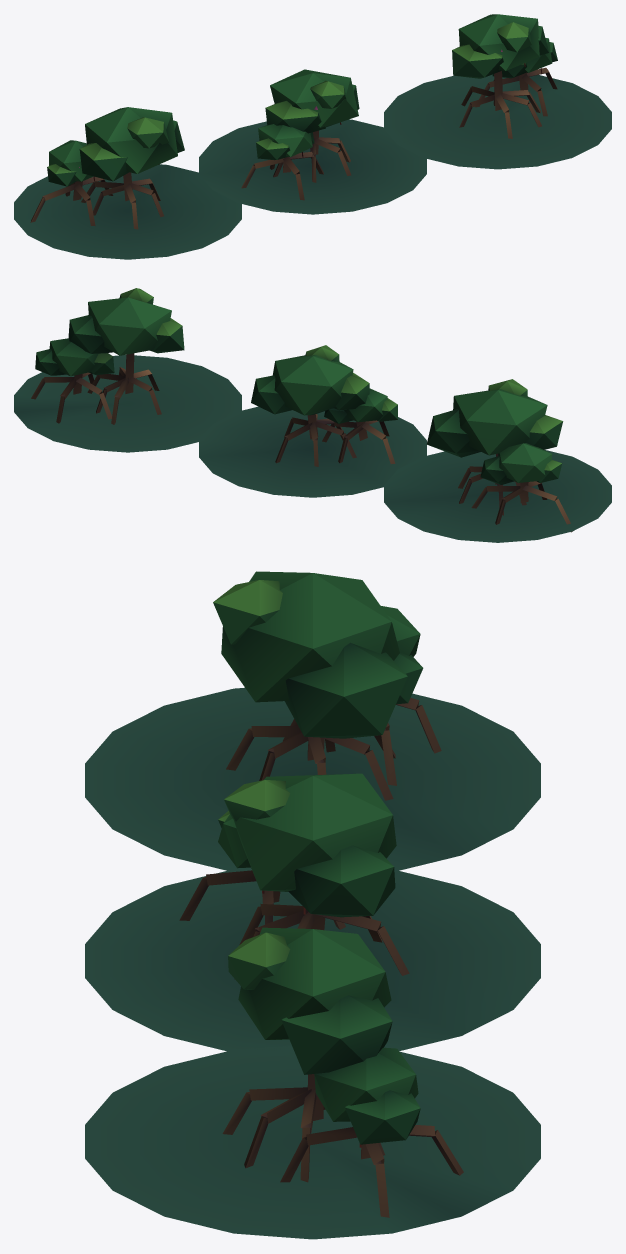
The model's file is manglares.glb.
3 renders of one model, top to bottom at view 1: azimuth 30°, elevation 25°; view 2: azimuth 150°, elevation 25°; view 3: azimuth 270°, elevation 25°, orthographic. The views are drawn at different scales.
Parts seen in each view (by area): view 1: agua_oscura, mangle_1, mangle_2, mangle_3; view 2: agua_oscura, mangle_1, mangle_3, mangle_2; view 3: agua_oscura, mangle_3, mangle_1, mangle_2.
Part boxes in pixels (x1,y1,x2,y2): agua_oscura: (14,74,611,259); mangle_1: (30,107,184,229); mangle_2: (241,69,359,200); mangle_3: (452,14,557,138); agua_oscura: (14,355,611,542); mangle_1: (426,379,572,532); mangle_3: (31,288,184,424); mangle_2: (251,345,397,466); agua_oscura: (85,687,540,1239); mangle_3: (222,927,463,1217); mangle_1: (213,571,441,800); mangle_2: (179,773,409,979).
Bounding box in the file's own units: 74 × 14.19 × 25.61.
